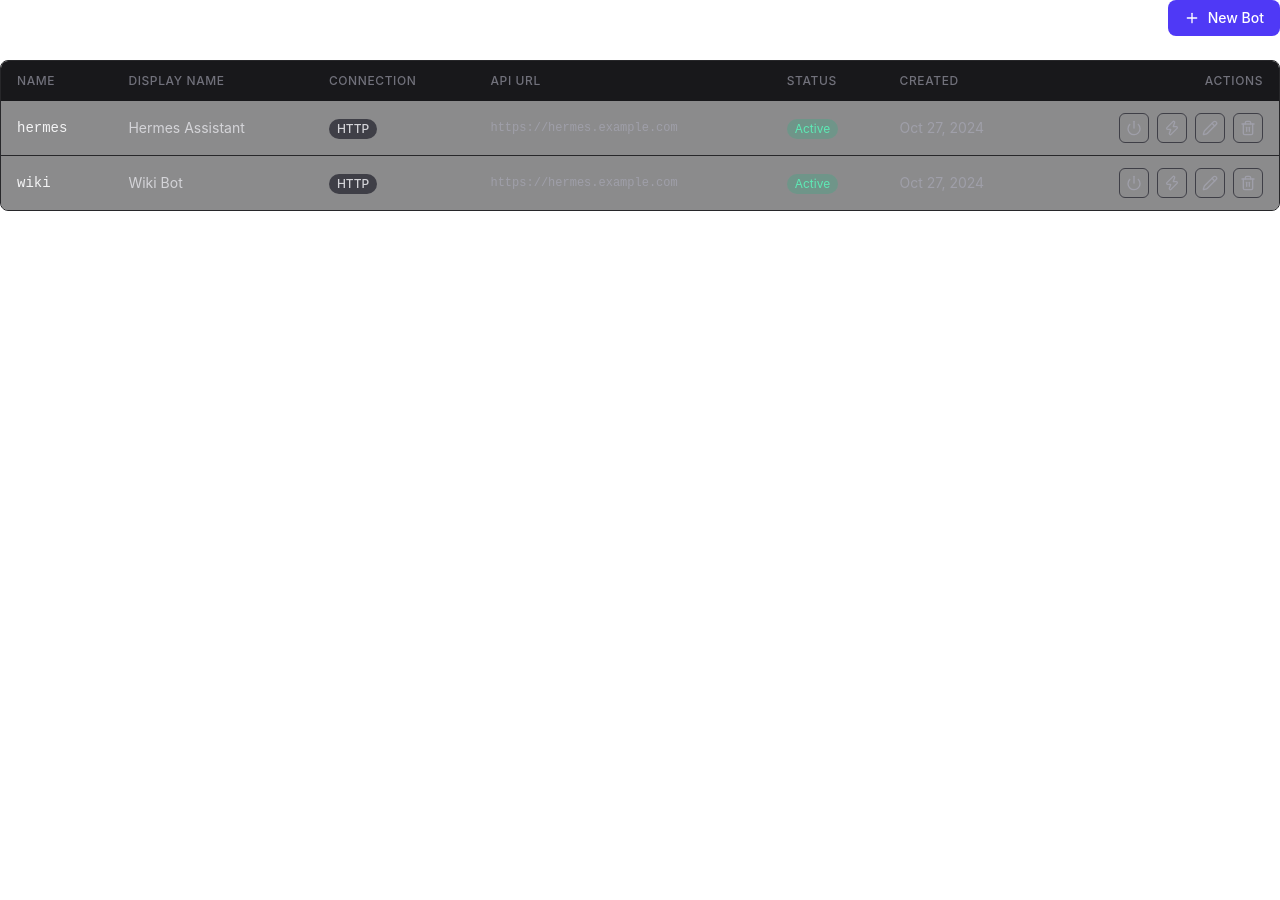
Test: AdminBotsPage › opens a confirm dialog when delete is clicked
The width and height of the screenshot is (1280, 900).
Click the button named "Delete hermes" at (1248, 128), box [1233, 113, 1263, 143]
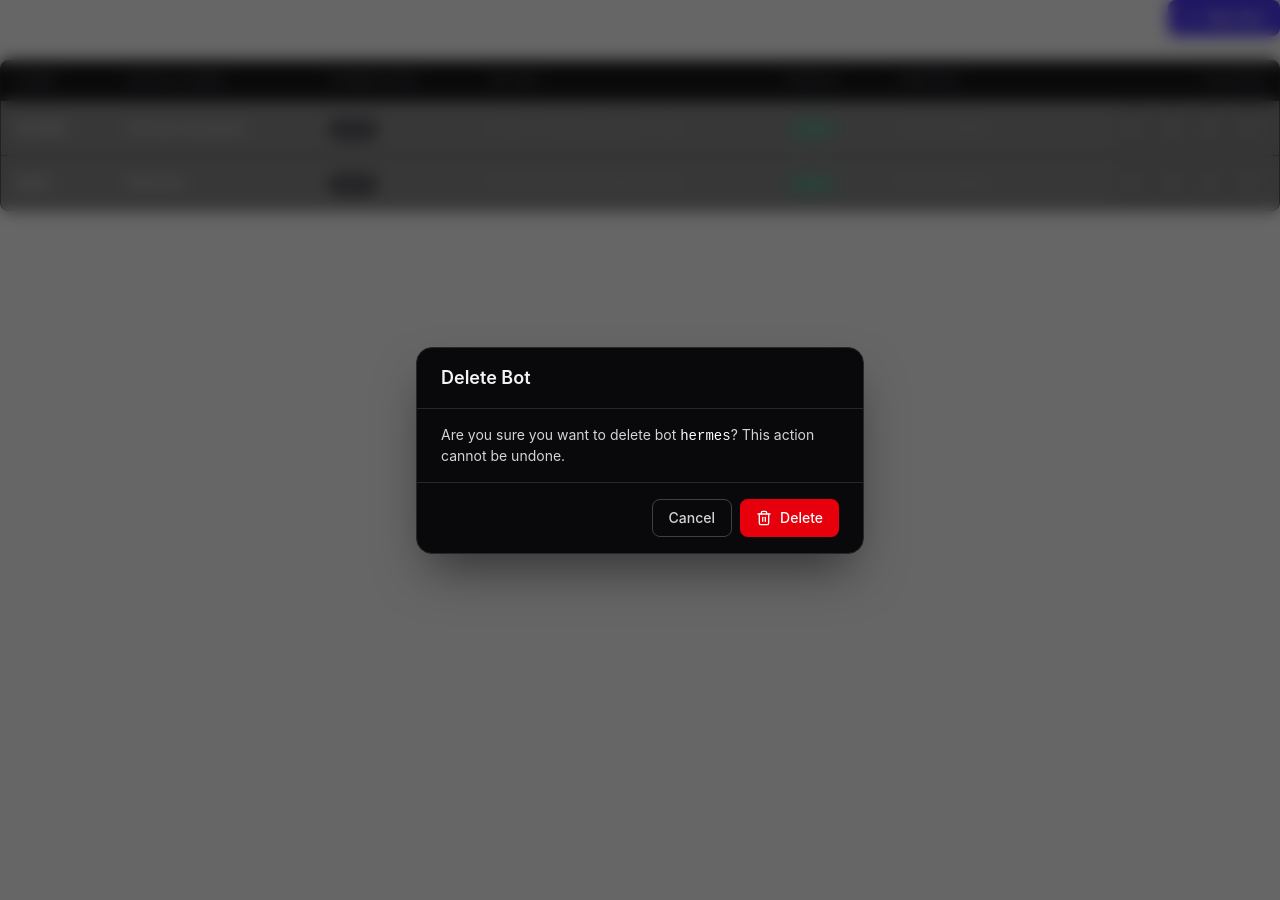
Now the text "Are you sure" is shown, box [441, 426, 676, 442]
